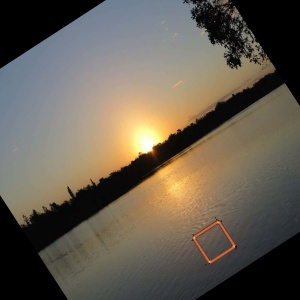square: (190, 219, 238, 265)
